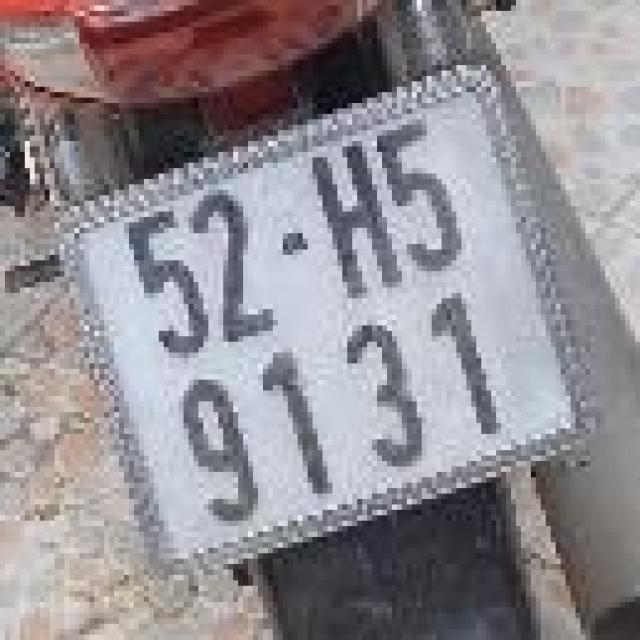1: (406, 271, 533, 444), (243, 337, 358, 522)
2: (171, 168, 297, 362)
3: (323, 301, 454, 494)
5: (363, 99, 490, 288), (110, 187, 225, 372)
9: (164, 366, 282, 542)
H: (290, 125, 420, 316)
